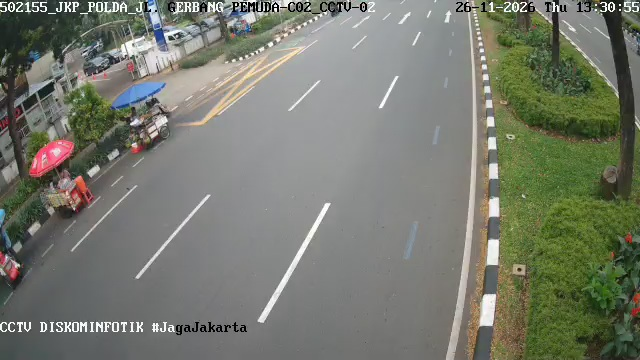Gerobak: (40, 168, 93, 216), (125, 105, 172, 148)
